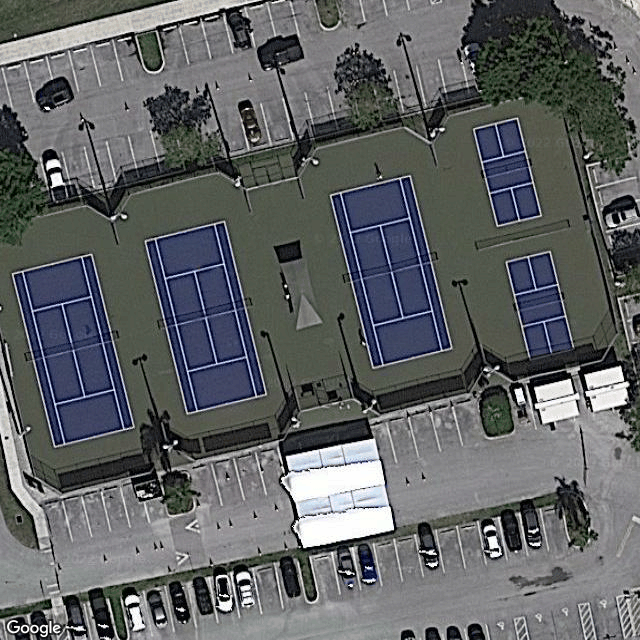Court: (10, 252, 136, 450), (144, 219, 269, 417), (328, 173, 454, 369)
